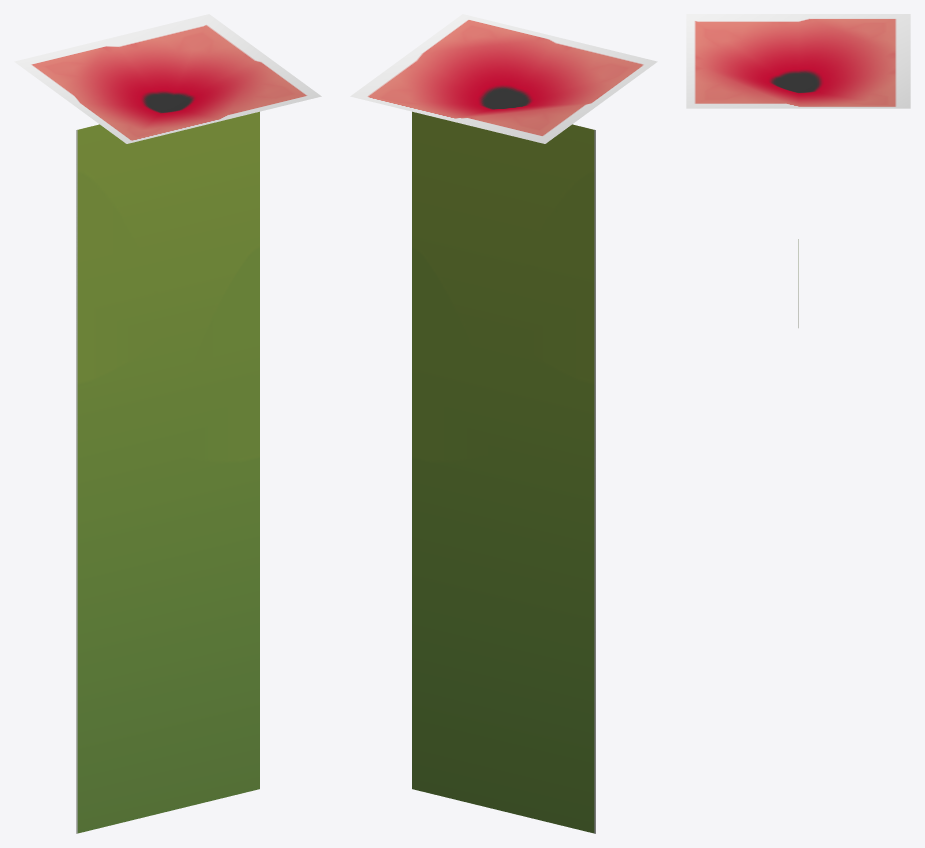
Rendered from Flower_02.fbx.
3 views of the same model, side by side, from view 1: azimuth 30°, elevation 25°; view 2: azimuth 150°, elevation 25°; view 3: azimuth 270°, elevation 25° (orthographic).
Visible parts, largest first — view 1: Flower_02; view 2: Flower_02; view 3: Flower_02.
Part boxes in pixels (x1,y1,x2,y2): Flower_02: (14, 14, 321, 833); Flower_02: (350, 14, 657, 833); Flower_02: (686, 14, 910, 327).
Bounding box in the file's own units: 10.49 × 37.6 × 10.49.
